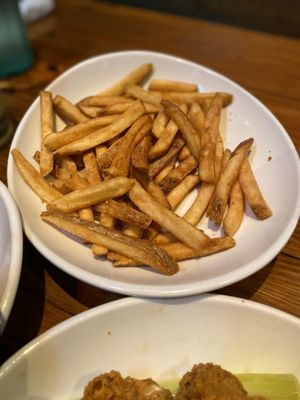pizza: (0, 0, 35, 80)
sushi: (0, 294, 299, 400)
